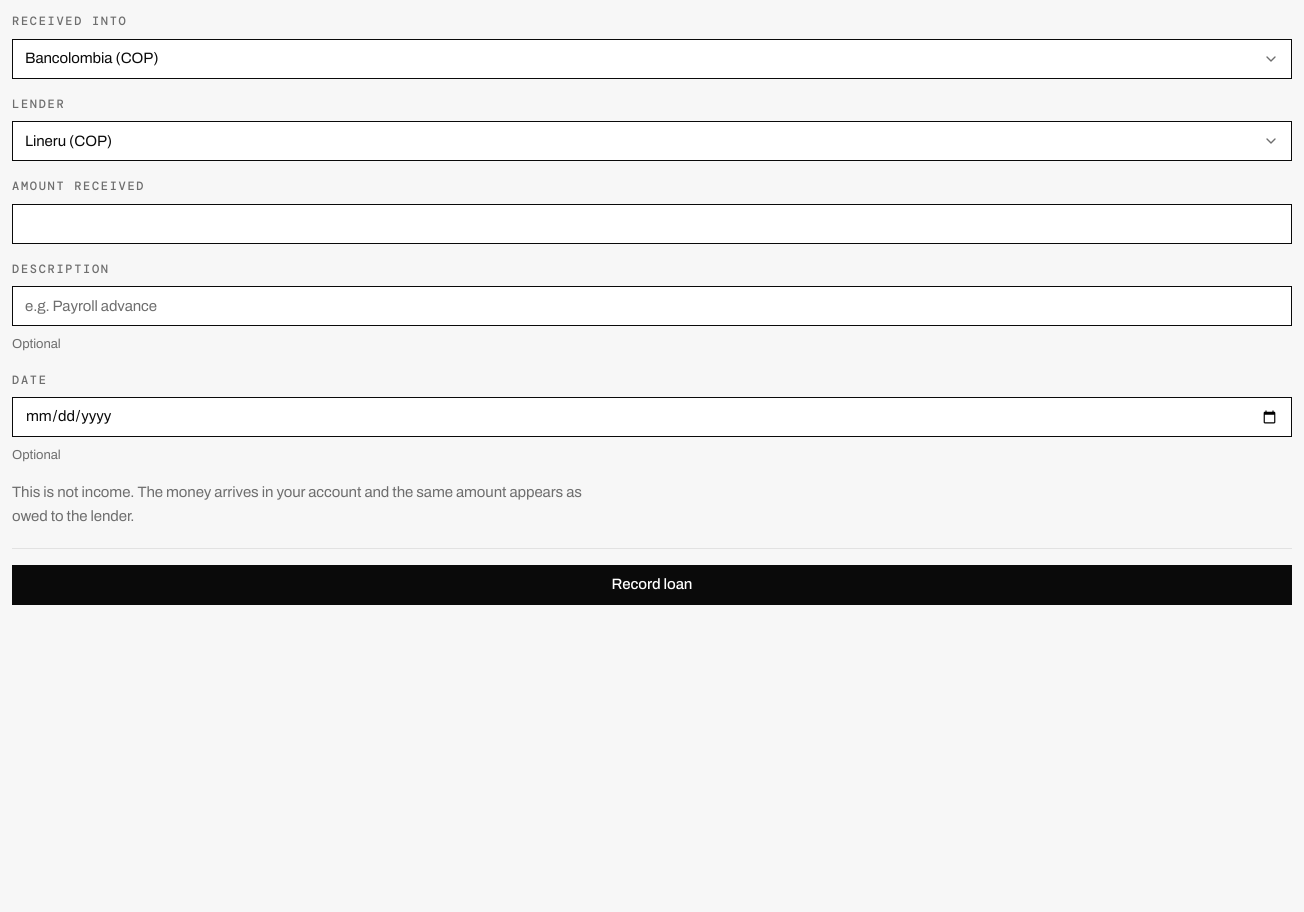
LoanForm › surfaces the API refusing the loan
In the number field labelled "Amount received": [652, 224] box [12,204,1292,244], type "983000"
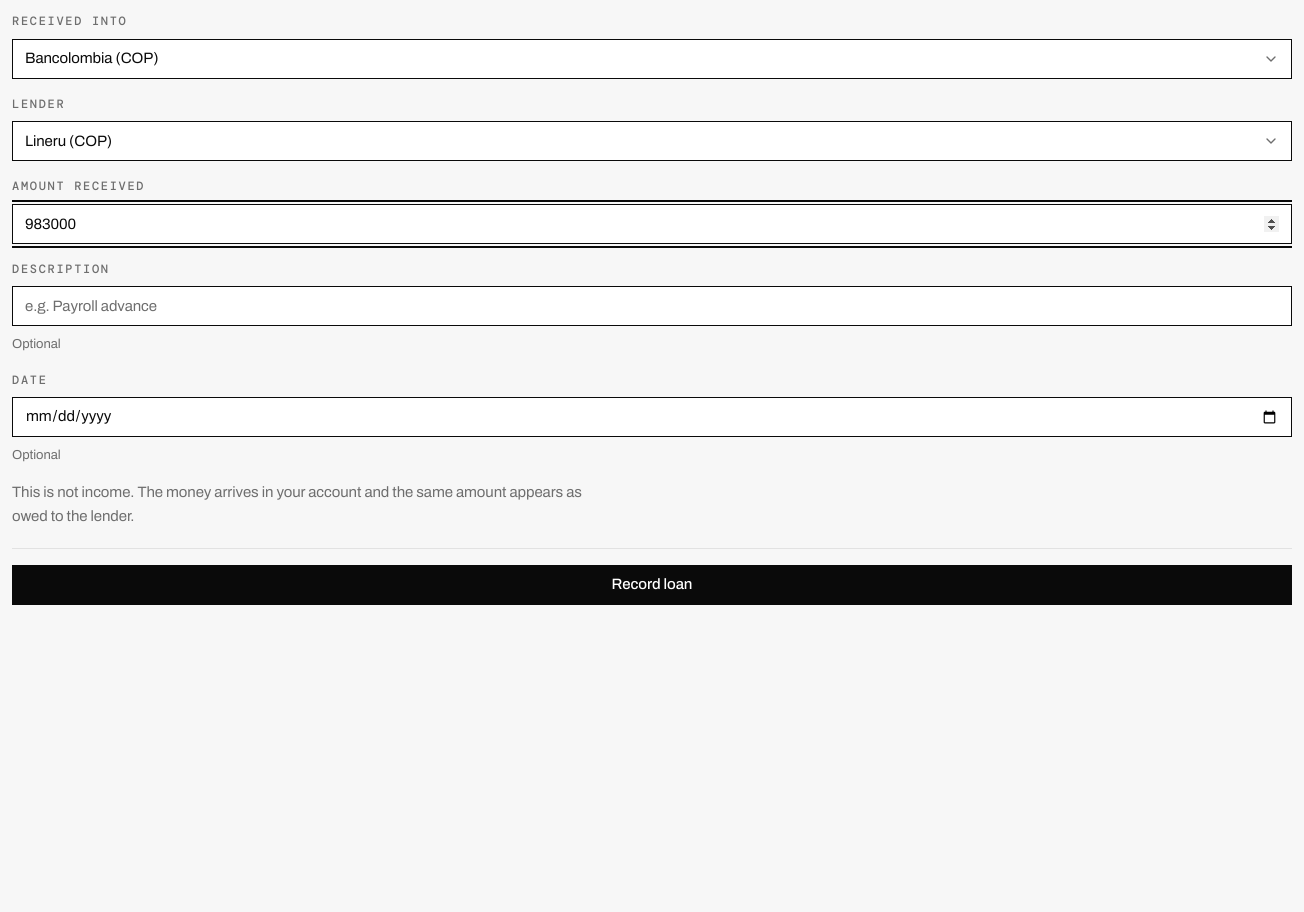
Click the button "Record loan": [652, 585] box [12,565,1292,605]
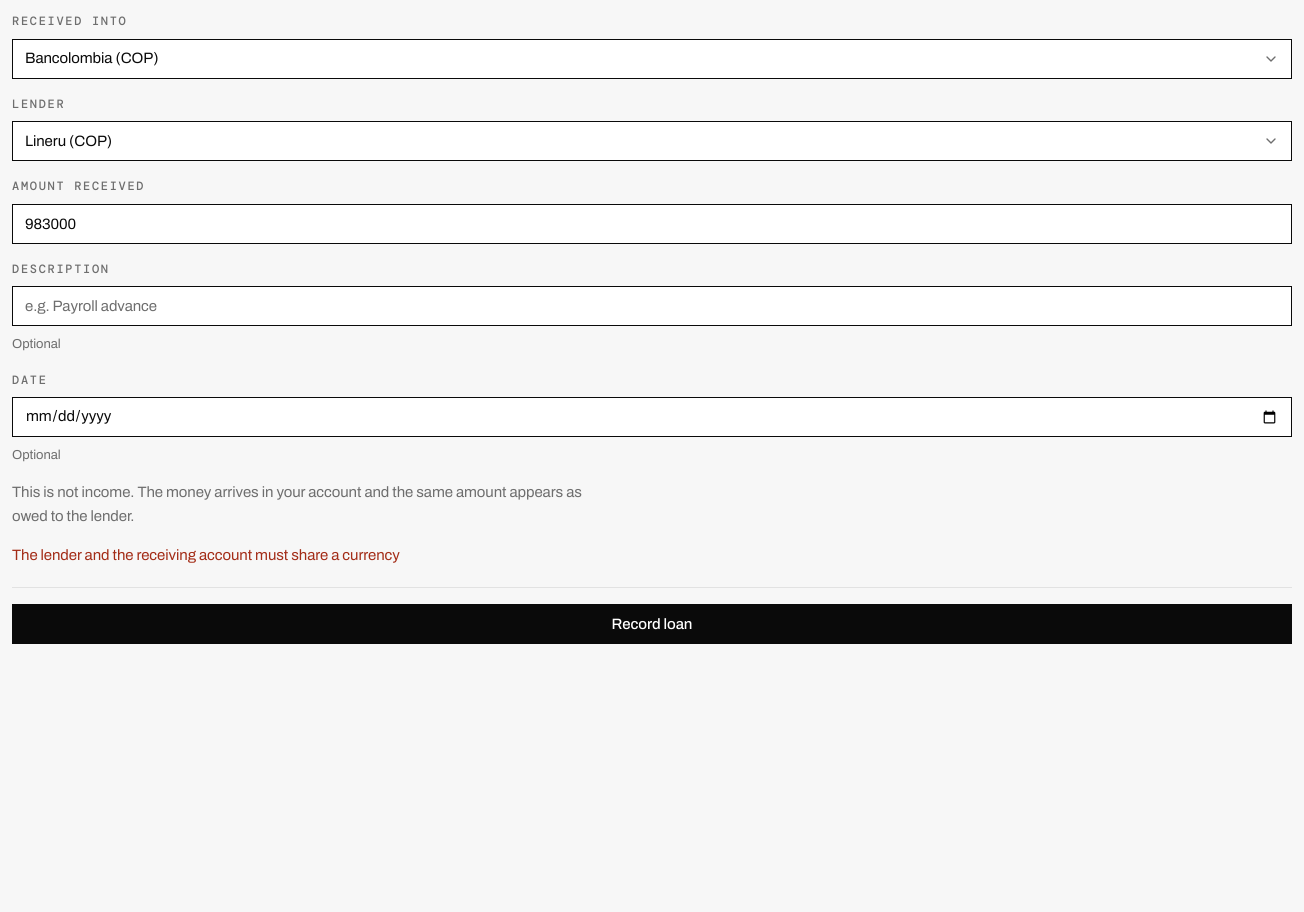
Now the text "The lender and the receiving account must share a currency" is shown, box [12,547,400,563]
